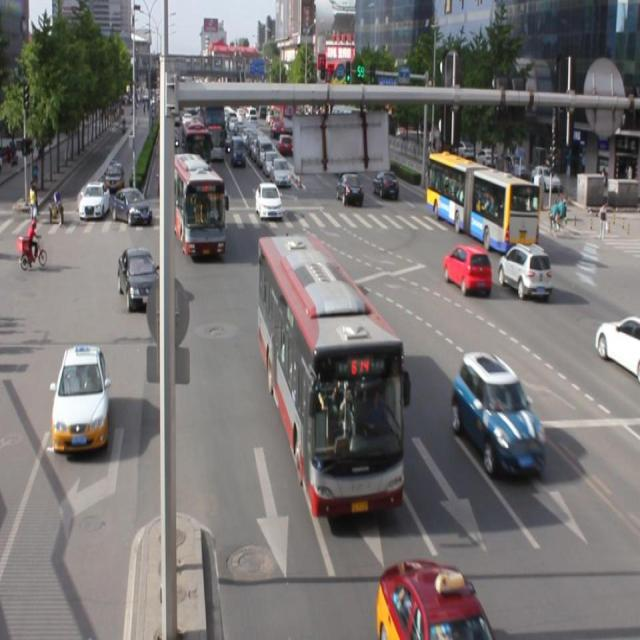car: (450, 348, 544, 476), (374, 556, 492, 640), (52, 342, 109, 452), (496, 242, 552, 301), (591, 314, 640, 378), (118, 247, 161, 310), (442, 242, 491, 294)
van: (258, 235, 403, 513), (428, 154, 539, 256), (173, 154, 225, 256)
